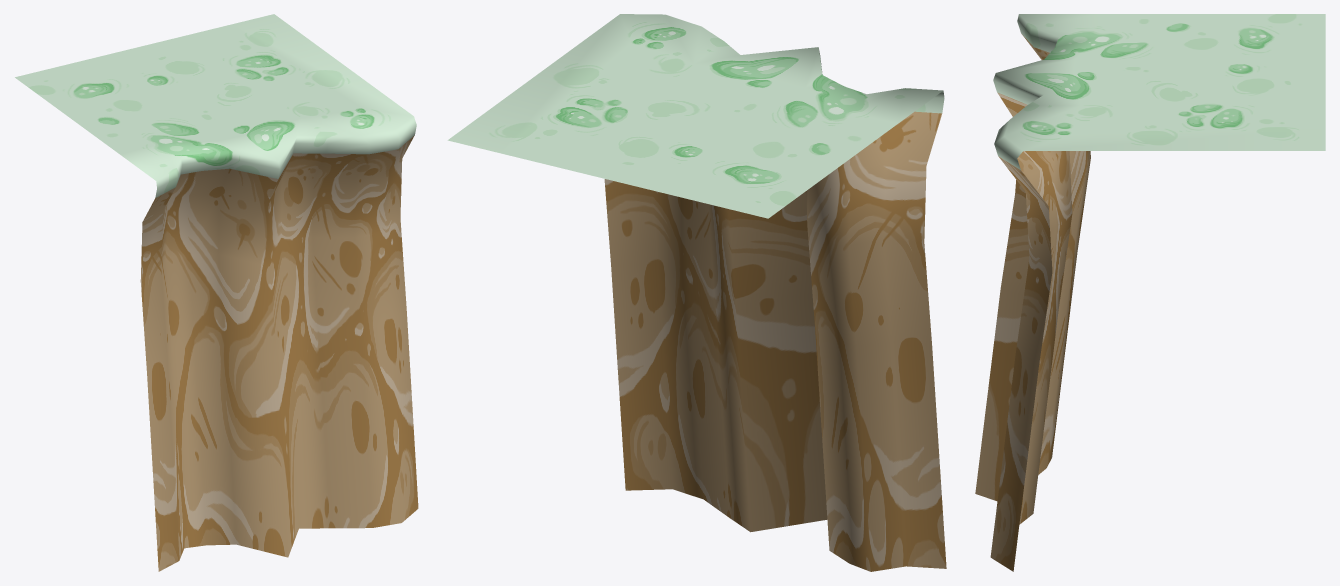
File: SM_tille_small_02.fbx
The picture shows the model from 3 angles, left to right: view 1: azimuth 30°, elevation 25°; view 2: azimuth 150°, elevation 25°; view 3: azimuth 270°, elevation 25°; orthographic projection. The views are drawn at different scales.
Visible parts, largest first — view 1: SM_tille_small_02; view 2: SM_tille_small_02; view 3: SM_tille_small_02.
Boxes of the visible parts, left/top/right/bottom form: SM_tille_small_02: left=15, top=14, right=418, bottom=571; SM_tille_small_02: left=447, top=14, right=946, bottom=571; SM_tille_small_02: left=975, top=14, right=1325, bottom=571.
Size of the model in its own units: 1217 by 1742 by 1314.
